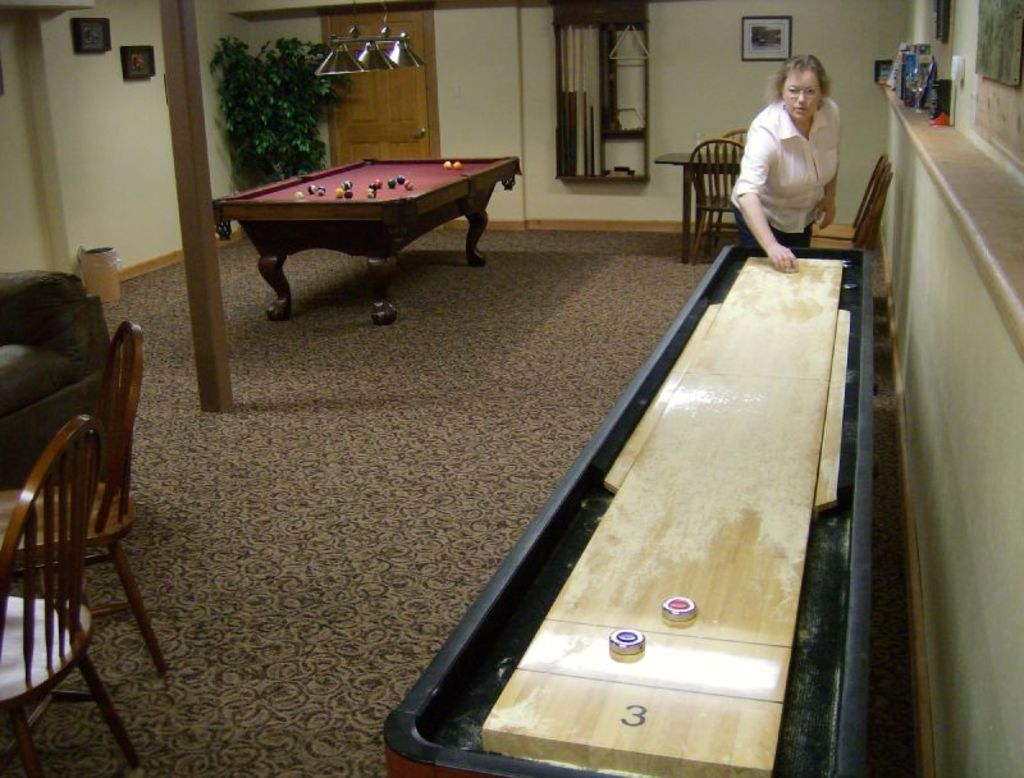Ball: (293, 174, 411, 198), (442, 161, 449, 166), (456, 161, 457, 168)
